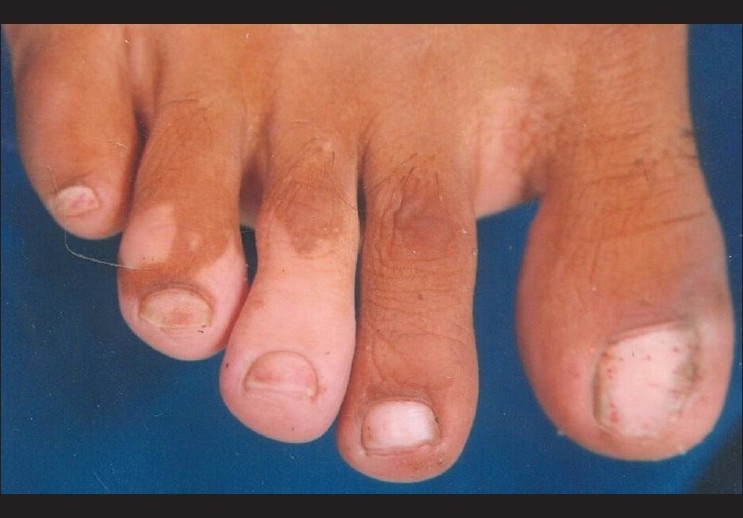vitiligo: (78, 160, 462, 433)
